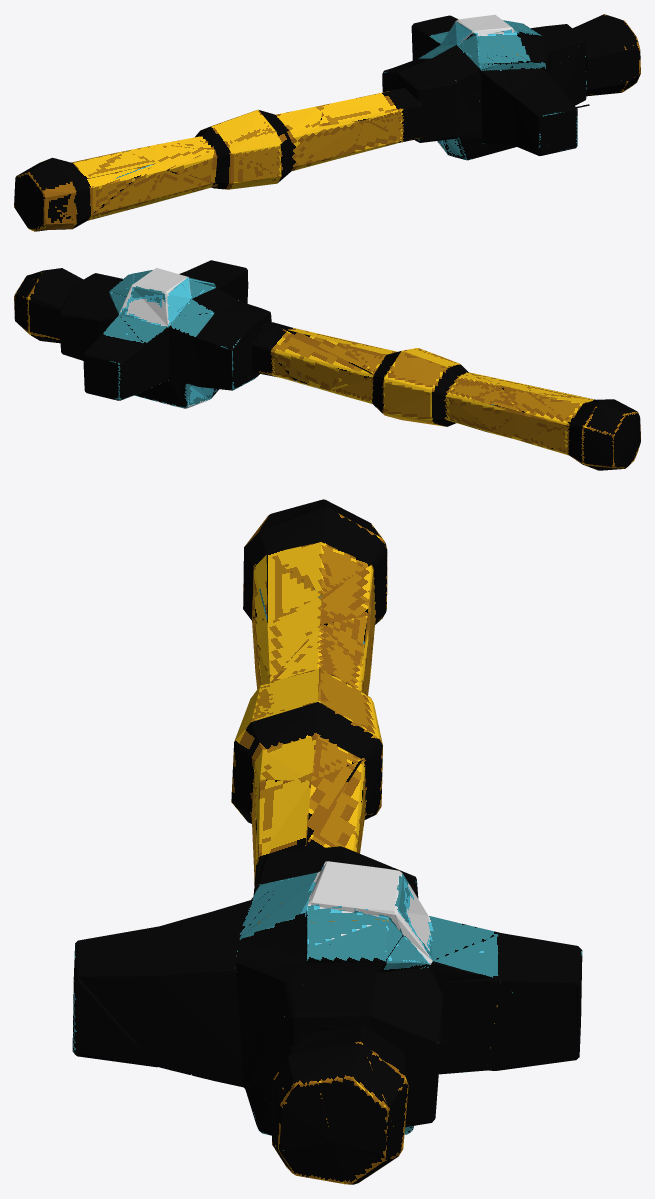
3 views of the same model, one above another, from view 1: azimuth 30°, elevation 25°; view 2: azimuth 150°, elevation 25°; view 3: azimuth 270°, elevation 25° (orthographic). The views are drawn at different scales.
Visible parts, largest first — view 1: OBJ0aa; view 2: OBJ0aa; view 3: OBJ0aa.
Boxes of the visible parts, bbox=[...] form: OBJ0aa: bbox=[14, 14, 640, 231]; OBJ0aa: bbox=[14, 260, 640, 470]; OBJ0aa: bbox=[72, 499, 582, 1184].
Bounding box in the file's own units: 0.3219 × 0.0601 × 0.1188.
Materials: 1 (1 with a texture image).
